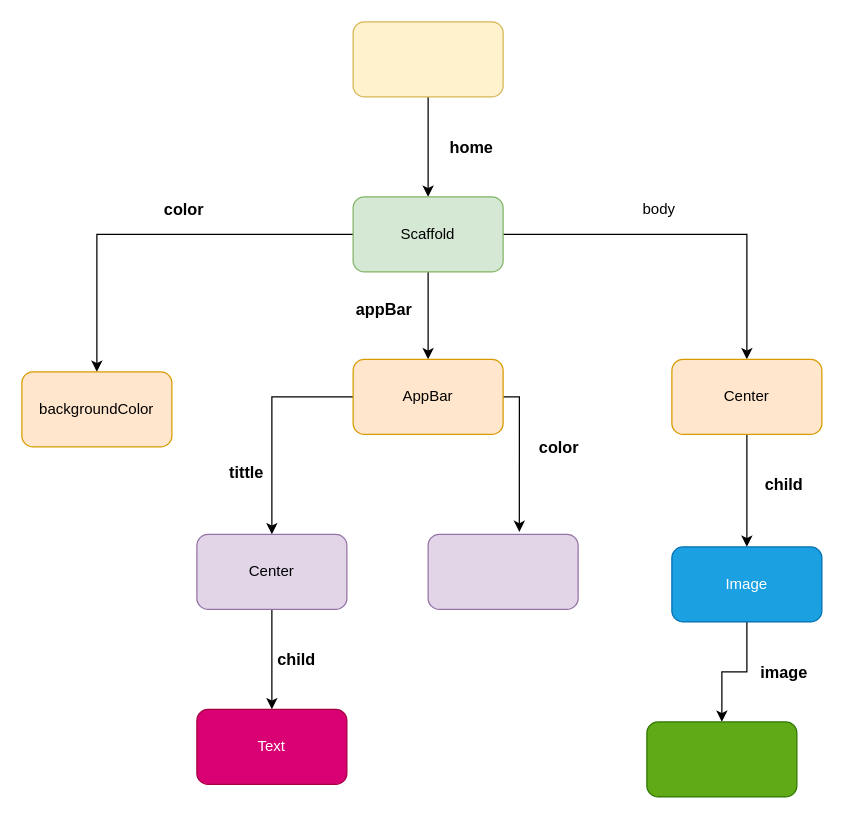
The diagram is 844 pixels wide and 819 high, and some of its shapes have lost their labels. The shapes that lost their labels are listed below. From the top down, each one's centre as x and y in pixels, then its label:
At point (427, 59): "MaterialApp".
At point (502, 571): "backgrounColor".
At point (721, 759): "NetworkImage".
